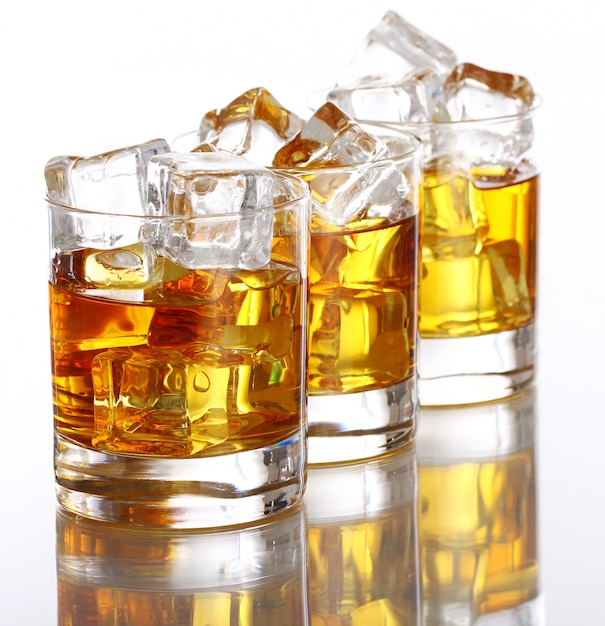alcohol: (42, 145, 305, 529), (160, 86, 419, 467), (311, 9, 539, 404)
